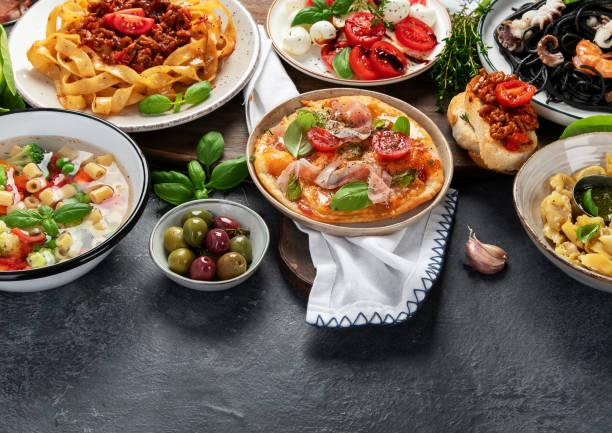Braised Crucian Carp: (13, 0, 256, 131), (244, 87, 447, 236), (2, 107, 148, 290), (0, 1, 39, 27)
